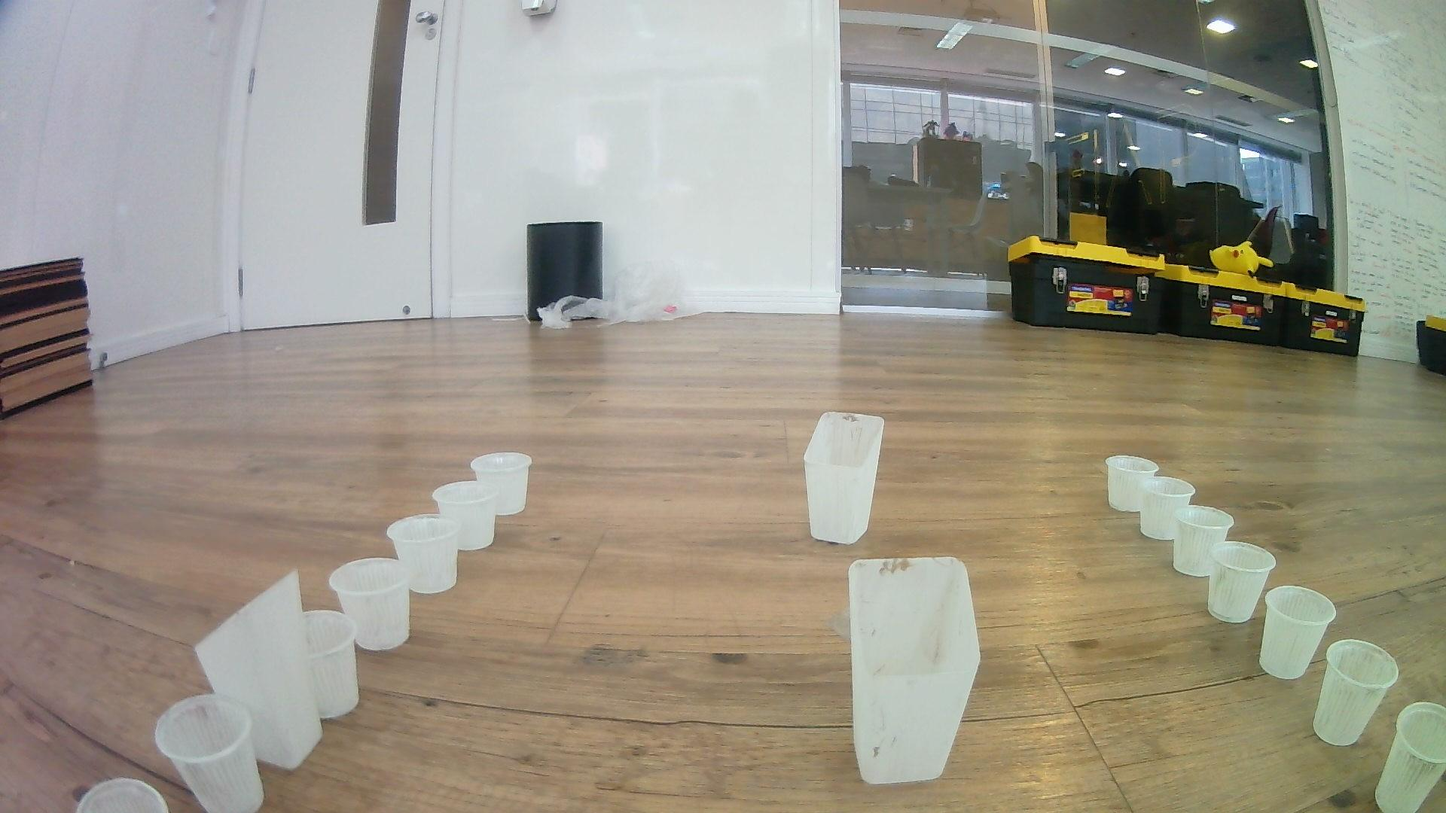erva_daninha: (845, 555, 982, 787), (193, 568, 322, 774), (803, 410, 887, 546)
planta: (154, 692, 267, 813), (1310, 637, 1399, 748), (1372, 701, 1446, 813), (328, 556, 413, 651), (1258, 584, 1336, 681), (298, 609, 361, 720), (386, 513, 460, 595), (1207, 541, 1277, 624), (429, 480, 501, 552), (1170, 504, 1235, 577), (470, 451, 533, 517), (1137, 475, 1196, 541), (71, 774, 170, 813), (1103, 454, 1160, 513)
